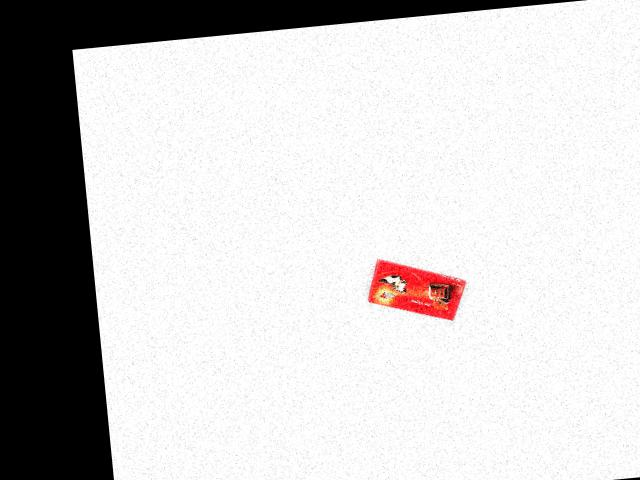chocolate: (366, 250, 471, 329)
